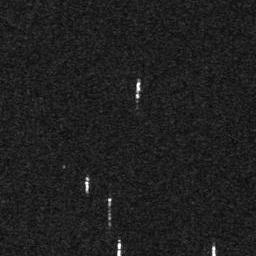ship: (114, 238, 123, 256), (83, 176, 90, 195), (135, 80, 141, 99), (209, 245, 217, 256)
